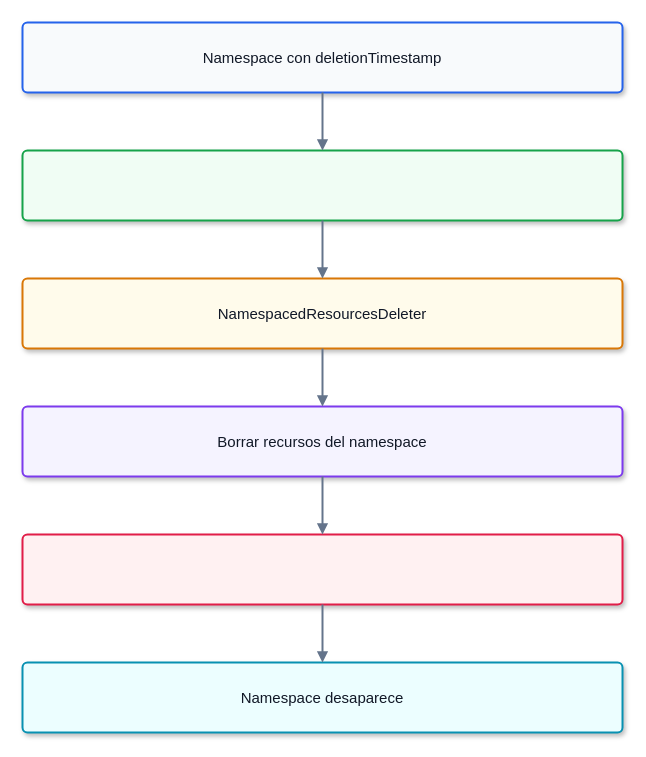
The diagram is 646 pixels wide and 757 high, and some of its shapes have lost their labels. Each missing label, with the centre of its shape:
Eliminar finalizers: the point at 323,570
NamespaceController: the point at 323,186
